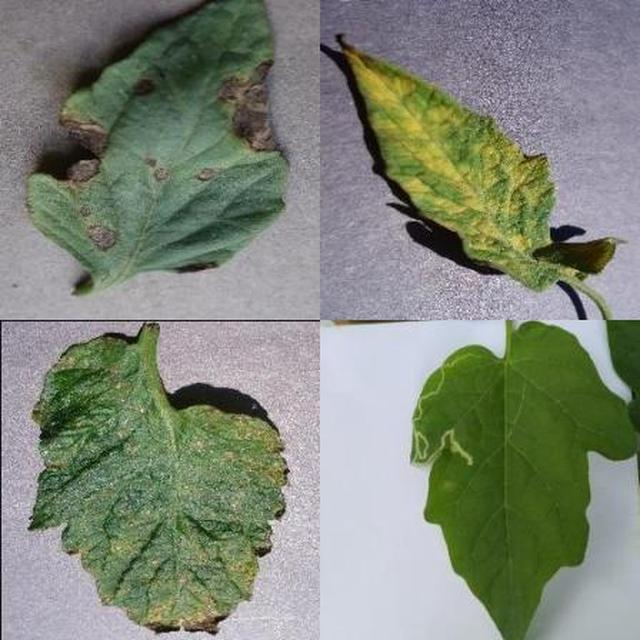Early Blight Leaf: (224, 195, 640, 640)
